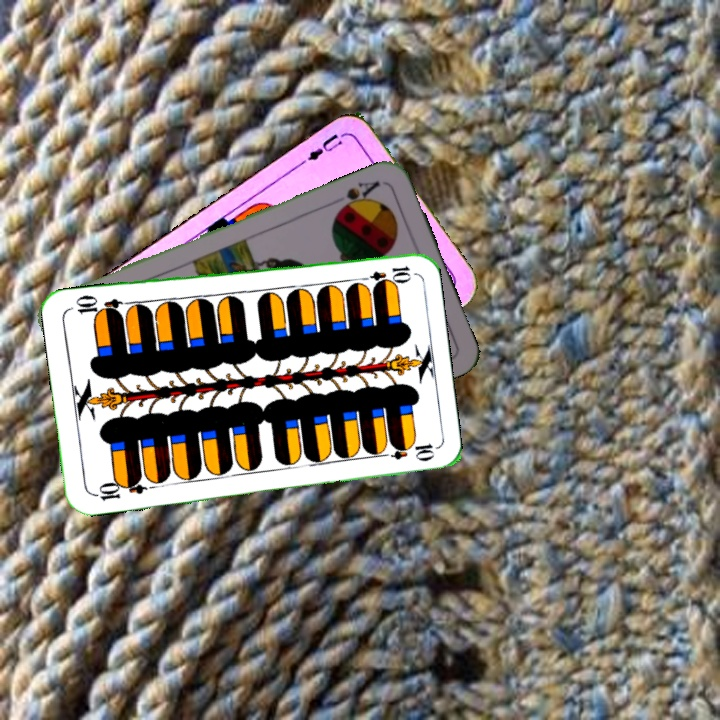E10: (89, 474, 148, 504), (354, 261, 414, 286)
EU: (297, 129, 345, 167)
SA: (332, 177, 383, 216)
